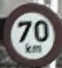Speed limit: (1, 4, 59, 60)
